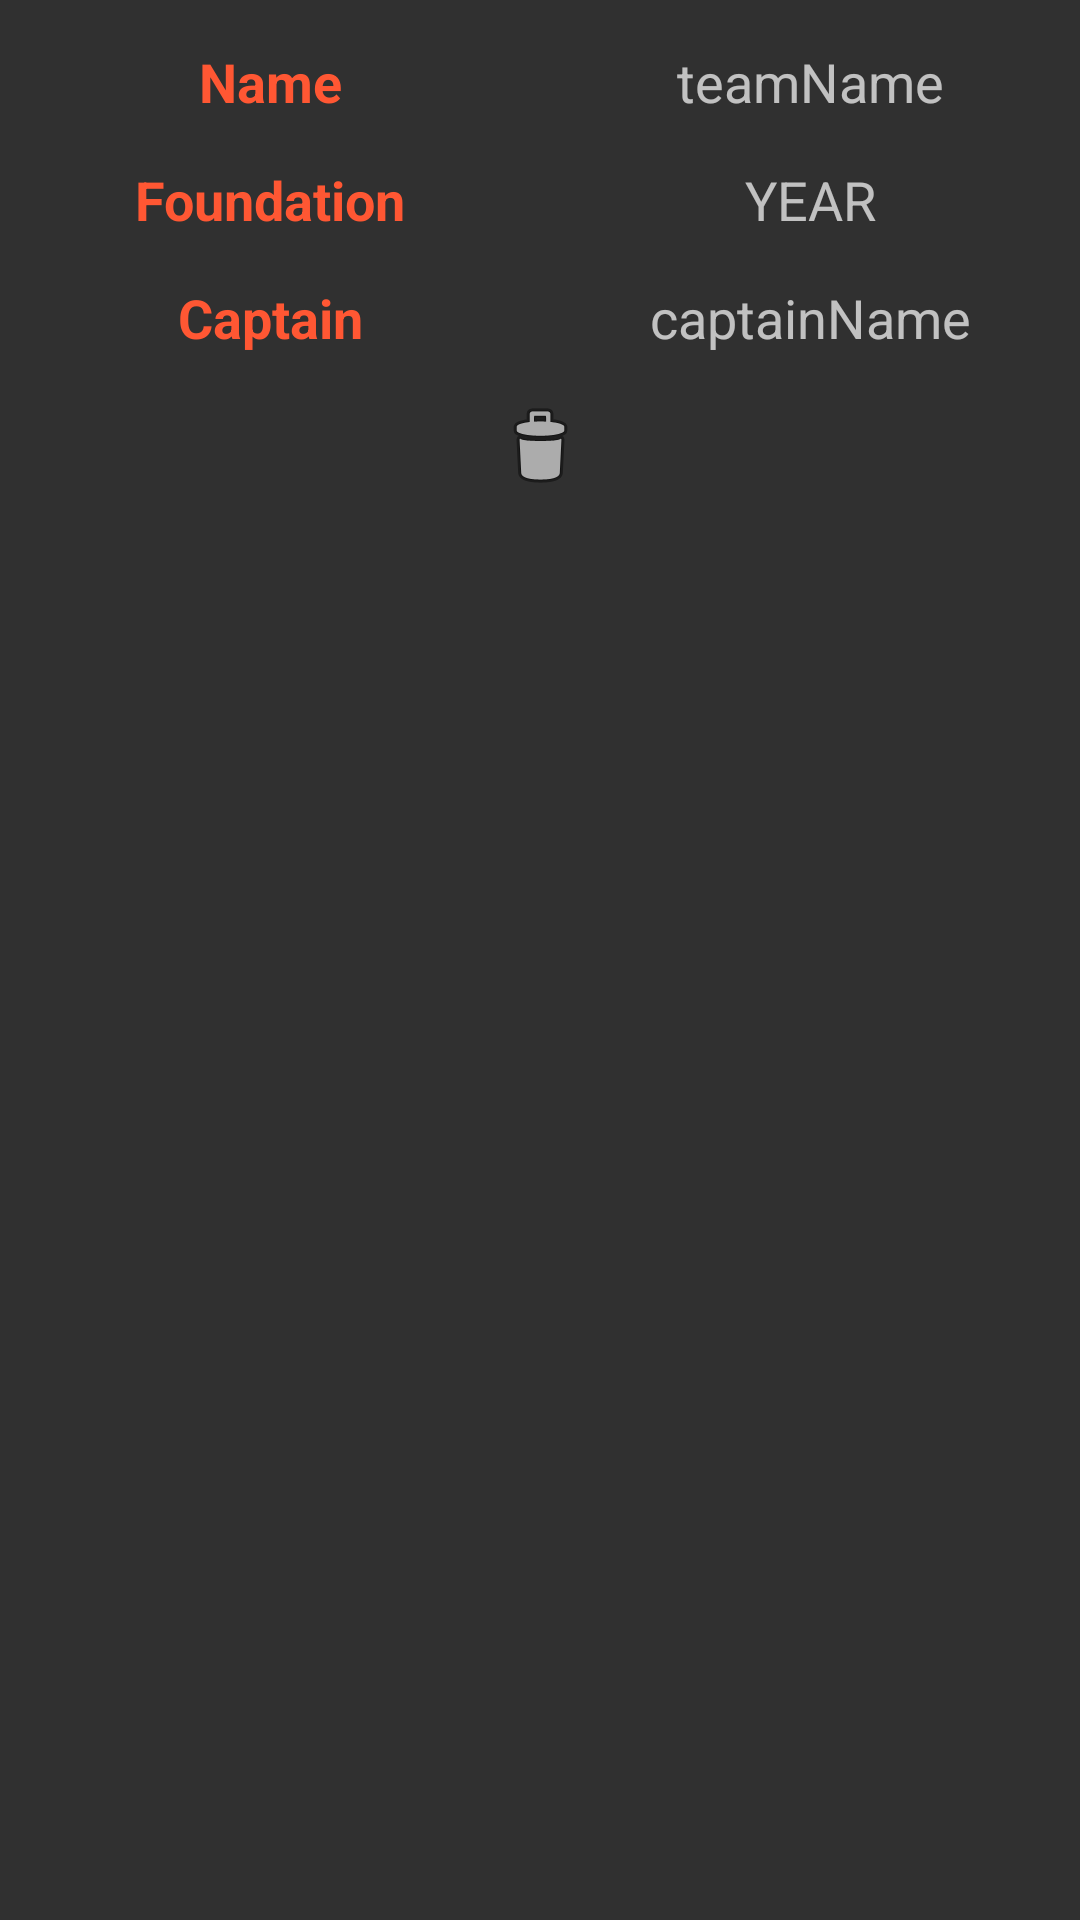

Icons on this 1080px×1920px Android screen, each with the point to tap as (x=x, y=y):
delete: (x=540, y=445)
